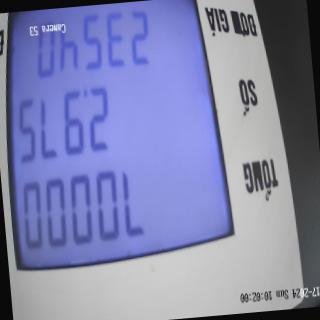screen: (0, 0, 241, 287)
